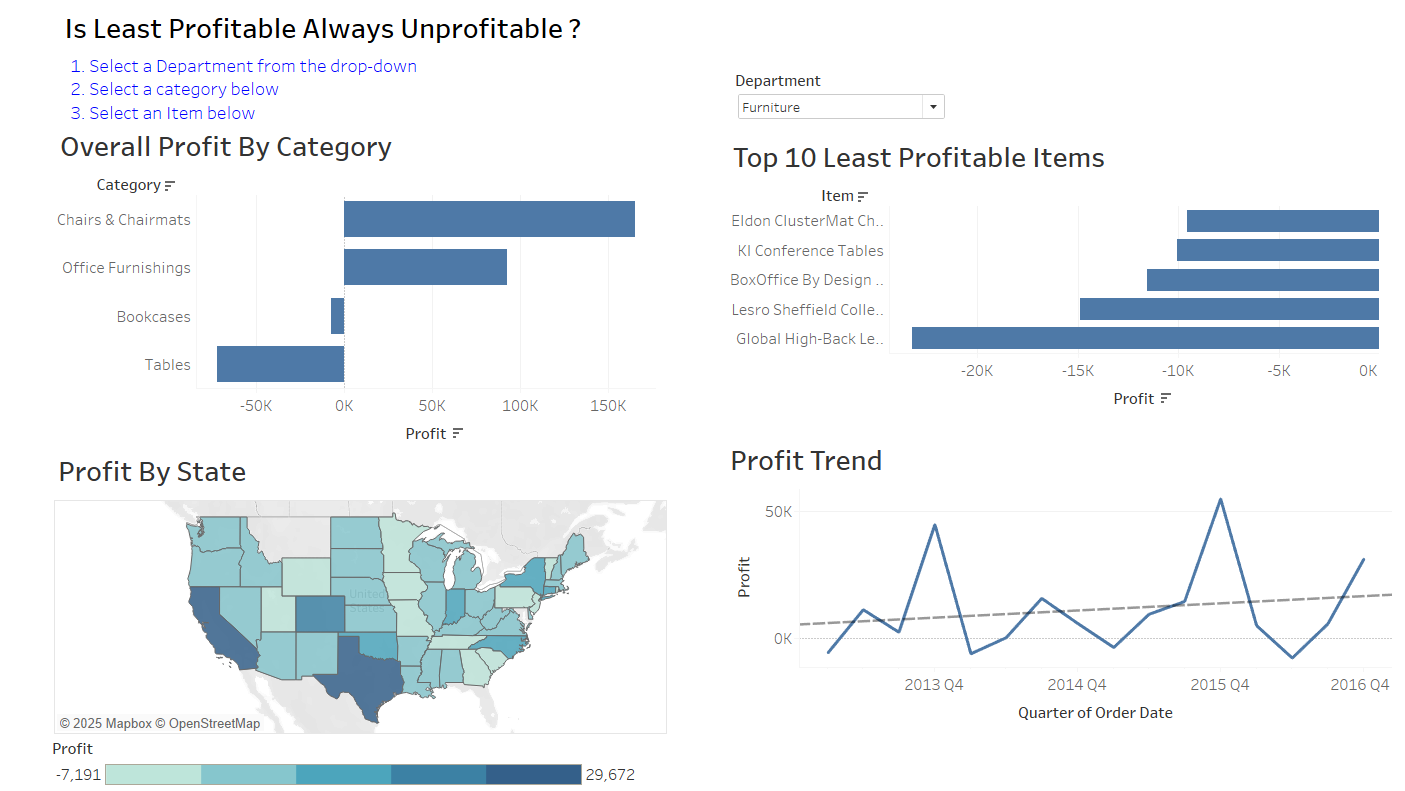

What the dashboard file says about the page in this screenshot:
{"tool":"tableau","page":{"name":"Is Least Profitable Always Unprofitable?","canvas":[1000,1000],"units":"permille","ordinal":0},"visuals":[{"type":"text","box":[38.9,11.2,444.4,52.4]},{"type":"text","box":[42.6,69.8,342,89.8]},{"type":"filter","title":"Category","param":"[federated.1pdox441je1phy18n836j0oeyl9n].[none:Department:nk]","box":[454.9,91,131.5,64.8]},{"type":"worksheet","title":"Category","mark":"Automatic","rows":["Category"],"cols":["Profit"],"box":[35.8,157.1,370.4,409]},{"type":"worksheet","title":"Least Profit","mark":"Automatic","rows":["Item"],"cols":["Profit"],"box":[451.2,170.8,401.2,351.6]},{"type":"worksheet","title":"Trend","mark":"Automatic","rows":["Profit"],"cols":["Order Date"],"box":[449.4,548.6,411.1,365.3]},{"type":"worksheet","title":"State","mark":"Multipolygon","box":[34.6,562.3,378.4,356.6]},{"type":"legend","title":"State","param":"[federated.1pdox441je1phy18n836j0oeyl9n].[sum:Profit:qk]","box":[33.3,923.9,363,66.1]}]}

Visuals, with their boxes on the dashboard's canvas, which has no fixed pixel size, in thousandths of its width and height (x1, y1, x2, y2). These are canvas units, not pixel positions in the 1405x791 screenshot, which may show the page scaled, cropped or inside an application window:
text: <bbox>39, 11, 483, 64</bbox>
text: <bbox>43, 70, 385, 160</bbox>
"Category" filter: <bbox>455, 91, 586, 156</bbox>
"Category" worksheet: <bbox>36, 157, 406, 566</bbox>
"Least Profit" worksheet: <bbox>451, 171, 852, 522</bbox>
"Trend" worksheet: <bbox>449, 549, 860, 914</bbox>
"State" worksheet (Multipolygon marks): <bbox>35, 562, 413, 919</bbox>
"State" legend: <bbox>33, 924, 396, 990</bbox>
